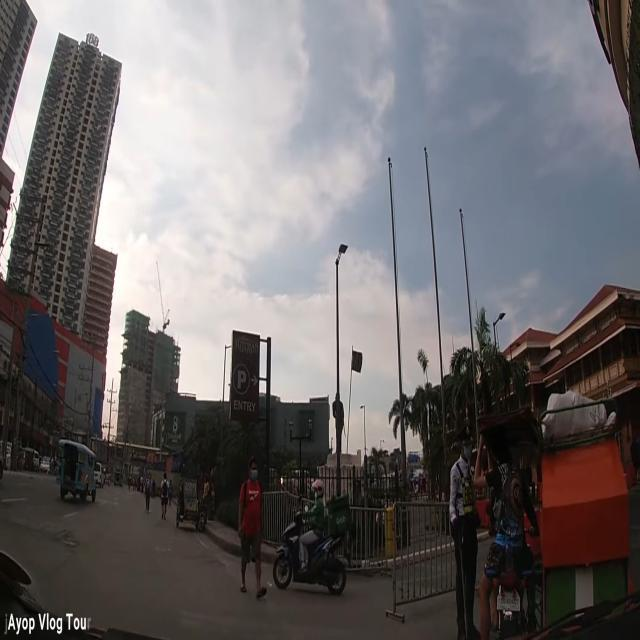car: (39, 456, 51, 474)
jeepney: (55, 438, 96, 502), (113, 467, 123, 487)
motorcycle: (276, 480, 352, 596)
tricycle: (470, 398, 636, 636), (174, 476, 203, 531)
